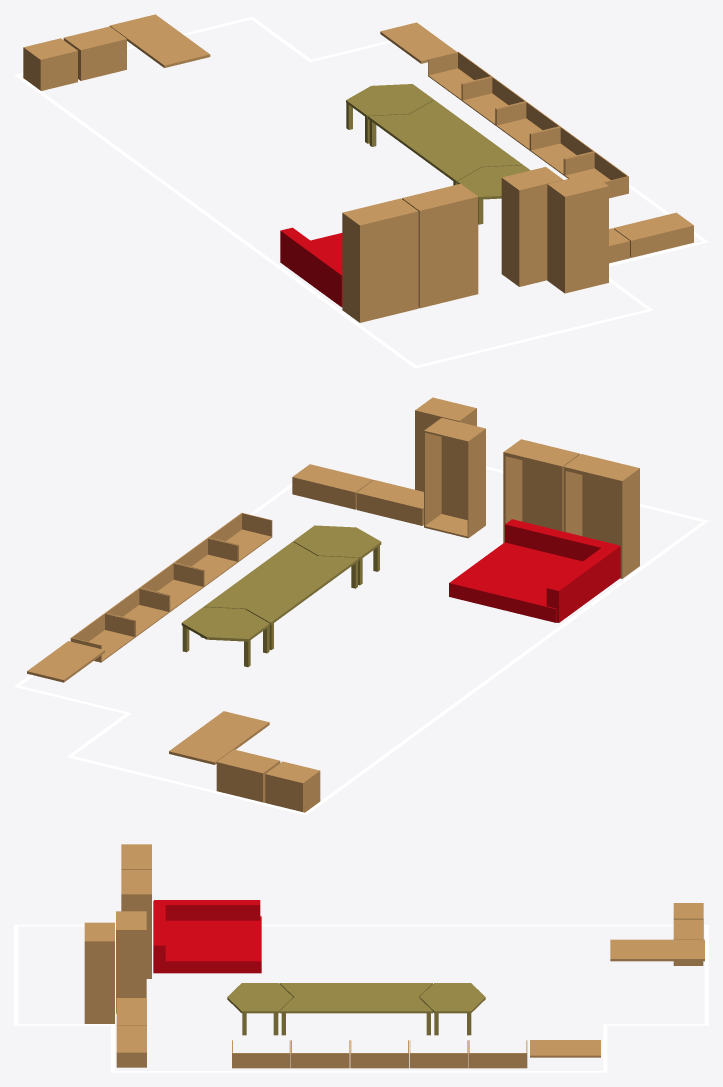
The model's file is level-point.glb.
3 views of the same model, one above another, from view 1: azimuth 30°, elevation 25°; view 2: azimuth 150°, elevation 25°; view 3: azimuth 270°, elevation 25° (orthographic). The views are drawn at different scales.
Visible parts, largest first — view 1: Cube, Cube.009, Cube.010, Cube.017, Cube.012, Plane, Cube.001, Cube.015, Cube.030, Cube.002, Cube.007, Cube.003 (+6 smaller); view 2: Cube, Cube.012, Cube.009, Cube.013, Cube.010, Plane, Cube.015, Cube.001, Cube.014, Cube.030, Cube.002, Cube.007 (+8 smaller); view 3: Cube, Cube.013, Plane, Cube.017, Cube.012, Cube.001, Cube.015, Cube.010, Cube.007, Cube.011, Cube.005, Cube.006 (+8 smaller).
Boxes of the visible parts, x1,y1,x2,y2 form: Cube: (346,84,530,199); Cube.009: (342,198,418,322); Cube.010: (402,184,478,308); Cube.017: (547,173,608,293); Cube.012: (501,167,562,286); Plane: (14,16,708,368); Cube.001: (110,14,210,67); Cube.015: (280,227,342,307); Cube.030: (23,38,77,90); Cube.002: (63,26,126,80); Cube.007: (613,212,693,257); Cube.003: (530,126,594,175); Cube: (181,525,381,641); Cube.012: (424,418,485,538); Cube.009: (563,454,639,578); Cube.013: (449,542,582,622); Cube.010: (503,439,579,542); Plane: (14,466,708,815); Cube.015: (546,543,620,622); Cube.001: (169,711,269,764); Cube.014: (505,519,618,561); Cube.030: (265,761,320,812); Cube.002: (216,749,280,802); Cube.007: (292,464,373,509); Cube: (227,983,485,1013); Cube.013: (154,916,261,973); Plane: (14,924,708,1072); Cube.017: (84,922,114,1023); Cube.012: (116,911,146,1013); Cube.001: (610,939,704,961); Cube.015: (154,900,260,920); Cube.010: (121,869,151,978); Cube.007: (116,1026,146,1067); Cube.011: (530,1040,600,1057); Cube.005: (409,1040,468,1068); Cube.006: (468,1040,527,1068).
Size of what is drawn, in the model's own units: 13.44 by 3.64 by 26.68.
